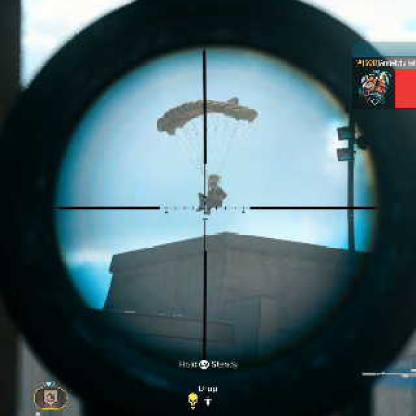enemy: (196, 173, 232, 214)
